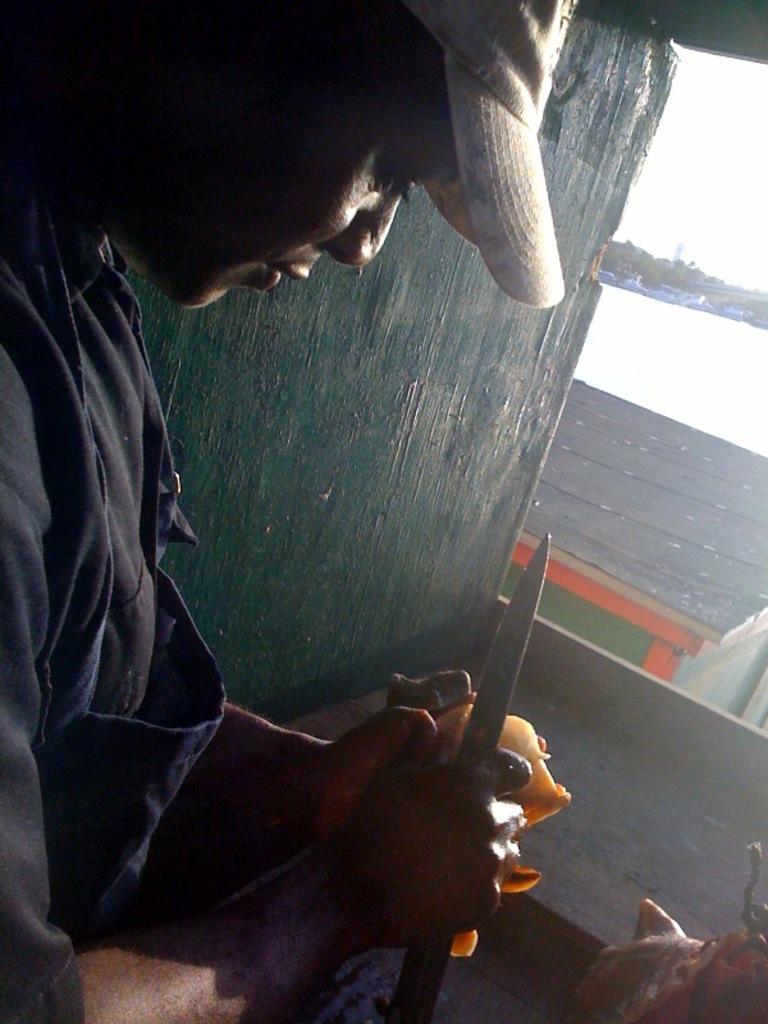face: (507, 726, 563, 805)
